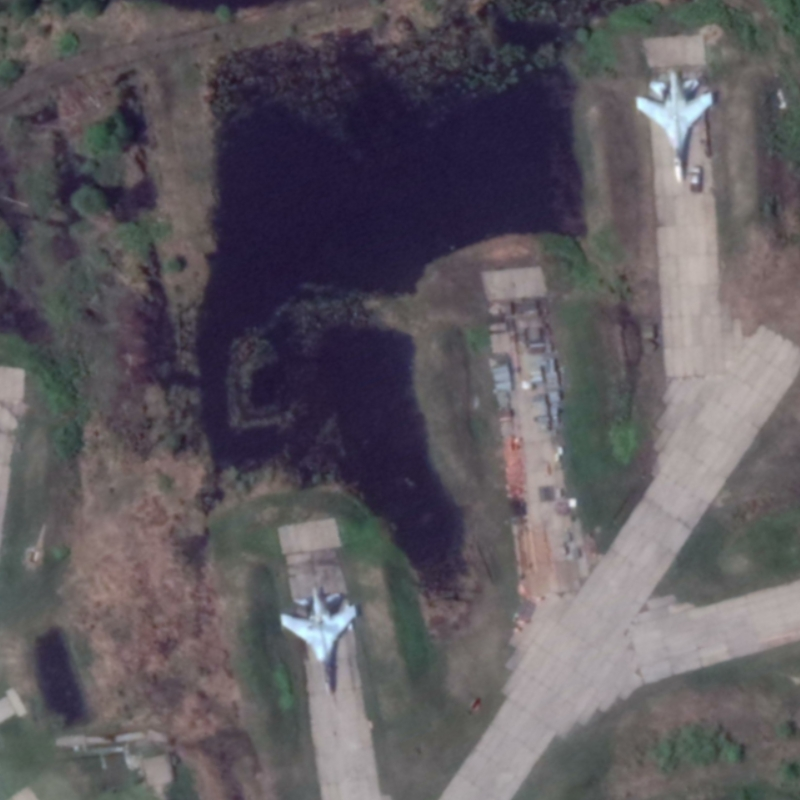A1: (633, 68, 717, 188), (278, 582, 361, 699)
